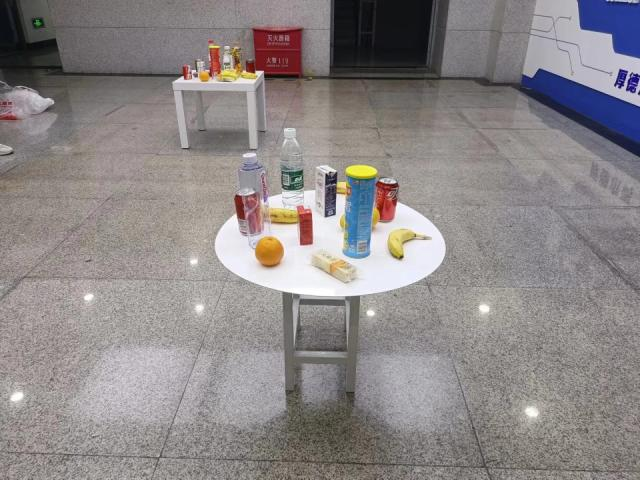Canned_drinks: (235, 188, 262, 235), (376, 176, 400, 224)
bottle: (238, 152, 276, 249), (280, 127, 306, 209)
cylinder: (343, 164, 374, 260)
drink_box: (314, 164, 338, 218), (296, 204, 314, 245)
